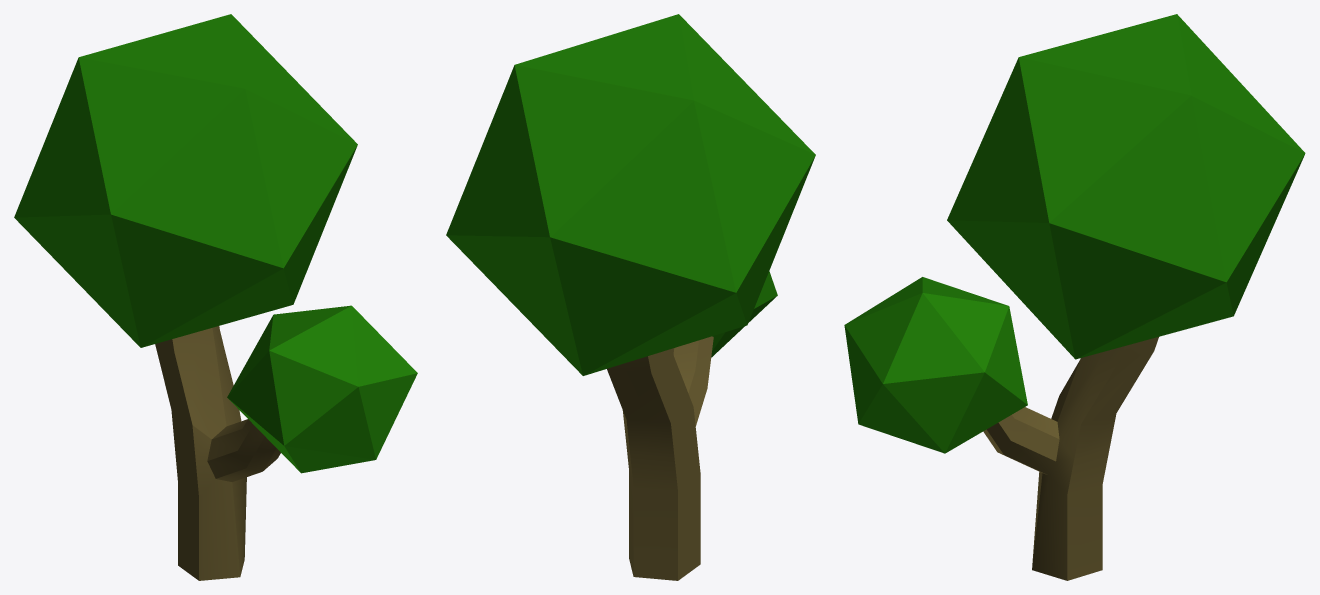
File: tree2.fbx
3 renders of one model, left to right at view 1: azimuth 30°, elevation 25°; view 2: azimuth 150°, elevation 25°; view 3: azimuth 270°, elevation 25°, orthographic. The views are drawn at different scales.
Parts seen in each view (by area): view 1: tree2; view 2: tree2; view 3: tree2.
Boxes of the visible parts, x1=… form: tree2: x1=14, y1=14, x2=417, y2=580; tree2: x1=446, y1=14, x2=815, y2=580; tree2: x1=844, y1=14, x2=1305, y2=580.
Bounding box in the file's own units: 7.3 × 12.77 × 10.42.
